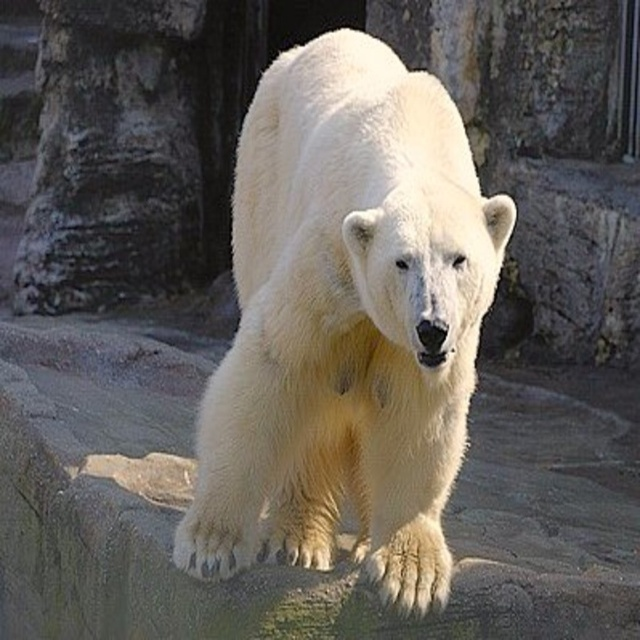Polar bear: (172, 29, 517, 629)
